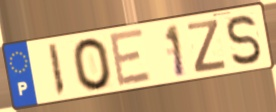1: (163, 22, 189, 78)
E: (107, 27, 154, 90)
I: (46, 41, 67, 99)
O: (70, 36, 114, 93)
S: (225, 13, 263, 67)
Z: (185, 18, 228, 75)
